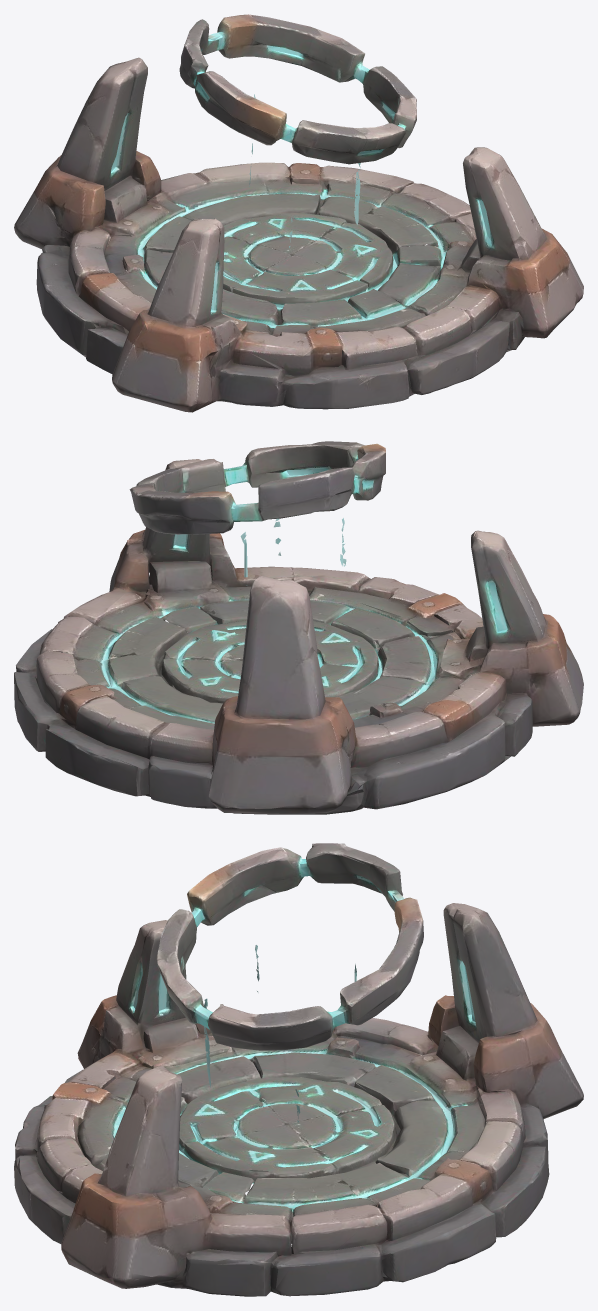
Rendered from loop_device.glb.
3 renders of one model, top to bottom at view 1: azimuth 30°, elevation 25°; view 2: azimuth 150°, elevation 25°; view 3: azimuth 270°, elevation 25°, orthographic. The views are drawn at different scales.
Parts seen in each view (by area): view 1: body; view 2: body; view 3: body.
Part boxes in pixels (x1=…): body: x1=14, y1=14, x2=583, y2=412; body: x1=14, y1=441, x2=583, y2=814; body: x1=14, y1=843, x2=583, y2=1296.
Bounding box in the file's own units: 1.58 × 0.8991 × 1.55.
1 material, 1 textured.
